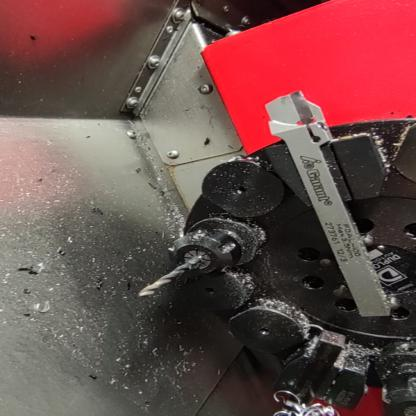bit: (256, 85, 400, 322), (259, 328, 381, 416)
